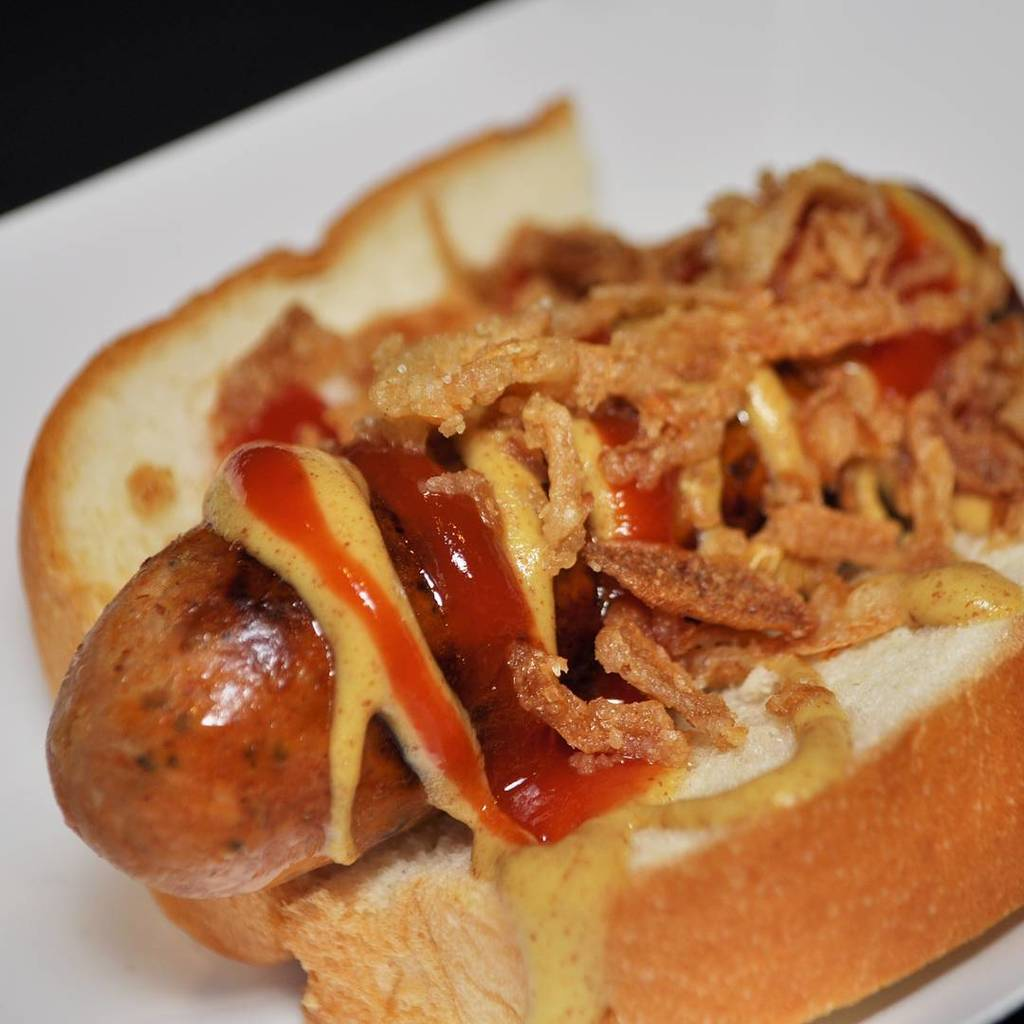sandwich: (11, 89, 1023, 1023)
